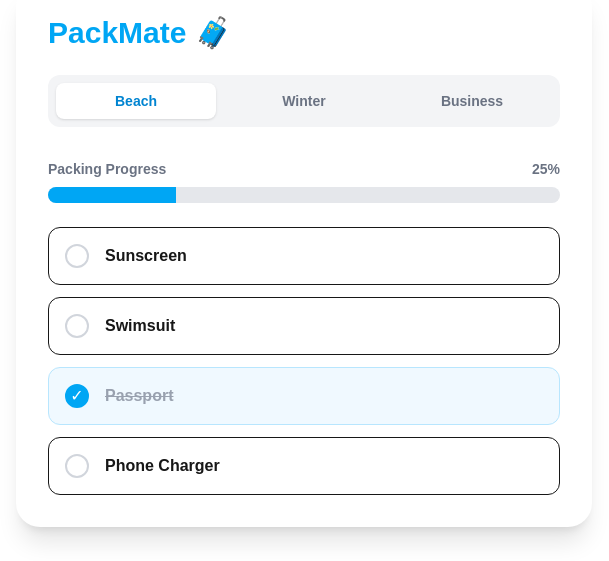
Test case: PackMate Component and Page › should filter items when selecting Winter trip category
Click the button "Winter" at (304, 101), box x1=224 y1=83 x2=384 y2=119
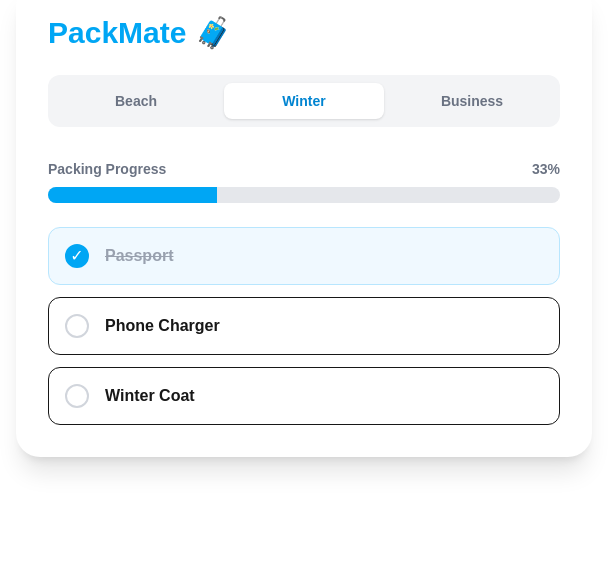
Expected: the text "Winter Coat" is shown, x1=105 y1=384 x2=195 y2=408
Expected: the text "Sunscreen" is gone
Expected: the text "Swimsuit" is gone
